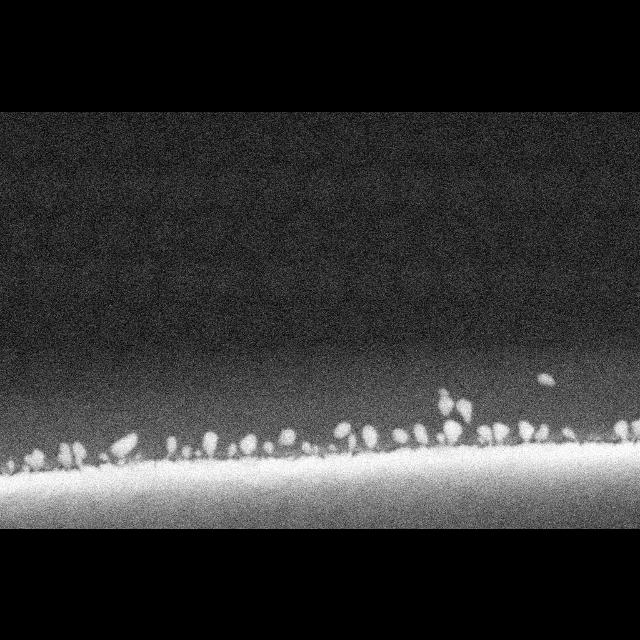dendrites: (111, 430, 138, 464), (333, 421, 357, 453), (24, 447, 45, 471), (443, 418, 462, 444), (72, 440, 88, 468), (438, 388, 454, 416), (57, 441, 72, 470), (455, 398, 472, 423), (203, 430, 218, 458), (240, 432, 258, 454), (492, 421, 509, 444), (518, 420, 534, 442), (363, 424, 377, 448), (413, 423, 428, 445), (477, 424, 493, 444), (614, 419, 629, 440), (165, 434, 178, 457), (278, 428, 295, 445), (392, 427, 409, 444), (534, 423, 549, 441), (538, 372, 556, 386), (301, 440, 319, 454), (561, 426, 577, 440), (5, 460, 19, 475), (631, 419, 640, 440), (99, 451, 111, 464), (263, 440, 274, 454), (182, 445, 192, 459), (228, 442, 237, 457), (436, 431, 445, 444), (328, 443, 337, 452), (22, 463, 30, 472), (136, 451, 142, 460), (195, 449, 201, 456)
